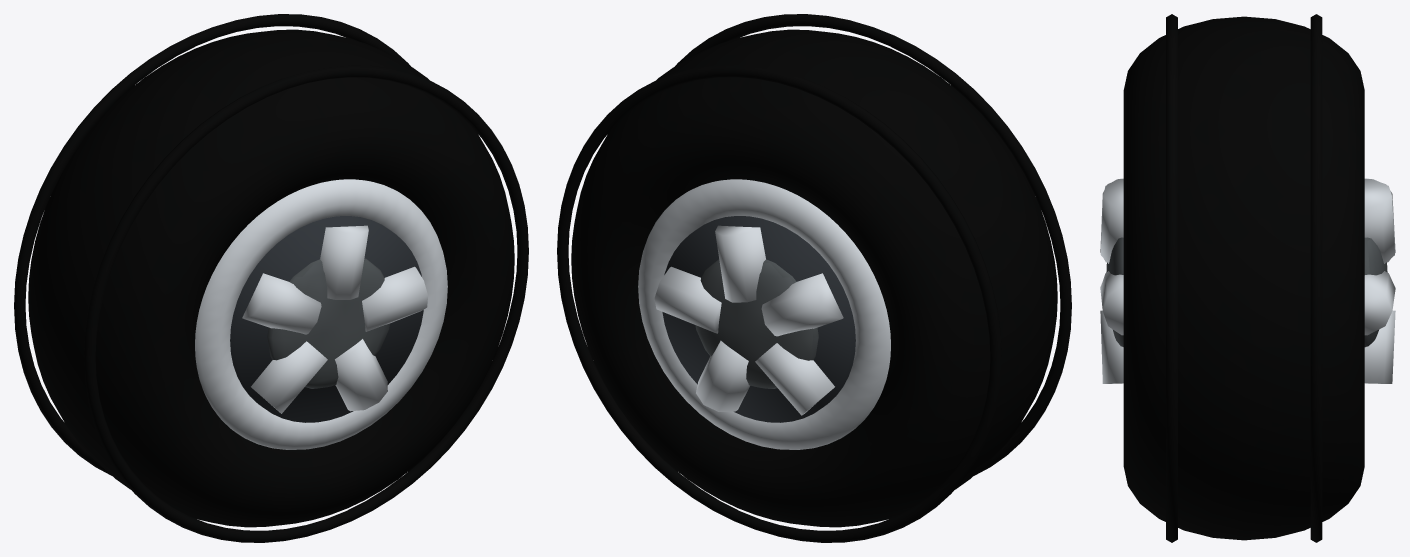
The model's file is SM_V4_WheelFL.fbx.
3 renders of one model, left to right at view 1: azimuth 30°, elevation 25°; view 2: azimuth 150°, elevation 25°; view 3: azimuth 270°, elevation 25°, orthographic. The views are drawn at different scales.
Visible parts, largest first — view 1: SM_V4_WheelFL; view 2: SM_V4_WheelFL; view 3: SM_V4_WheelFL.
Part boxes in pixels (x1,y1,x2,y2): SM_V4_WheelFL: (14, 14, 528, 542); SM_V4_WheelFL: (557, 14, 1071, 542); SM_V4_WheelFL: (1100, 14, 1395, 542).
Size of the model in its own units: 35.18 by 19.62 by 35.18.
